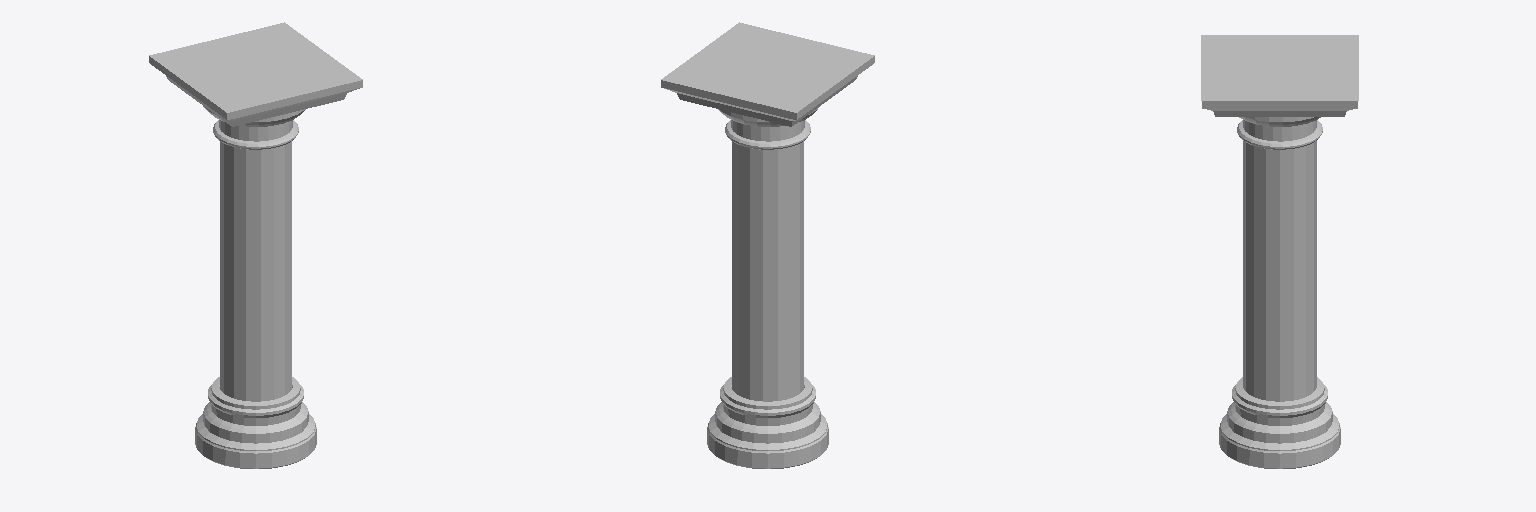
Rendered from column-simplified3.obj.
The picture shows the model from 3 angles: view 1: azimuth 30°, elevation 25°; view 2: azimuth 150°, elevation 25°; view 3: azimuth 270°, elevation 25°; orthographic projection.
Visible parts, largest first — view 1: Circle.006_Circle.001; view 2: Circle.006_Circle.001; view 3: Circle.006_Circle.001.
Boxes of the visible parts, <box> form: Circle.006_Circle.001: <box>149,22,362,468</box>; Circle.006_Circle.001: <box>661,22,874,468</box>; Circle.006_Circle.001: <box>1201,35,1358,468</box>.
Bounding box in the file's own units: 30.28 × 80.09 × 30.28.